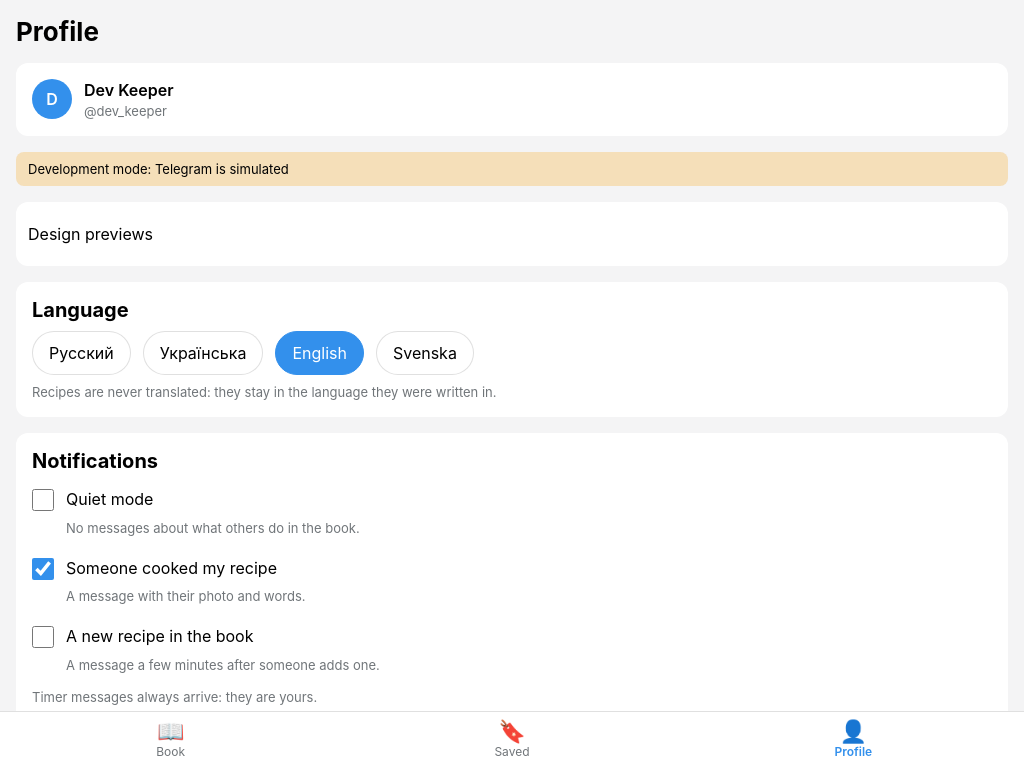
Test: notification settings in the Profile › quiet mode turns off the messages about other people; the two switches show it
Step 1. Click the checkbox labelled "Quiet mode" → (43, 500), box top-left (32, 489), bottom-right (54, 511)
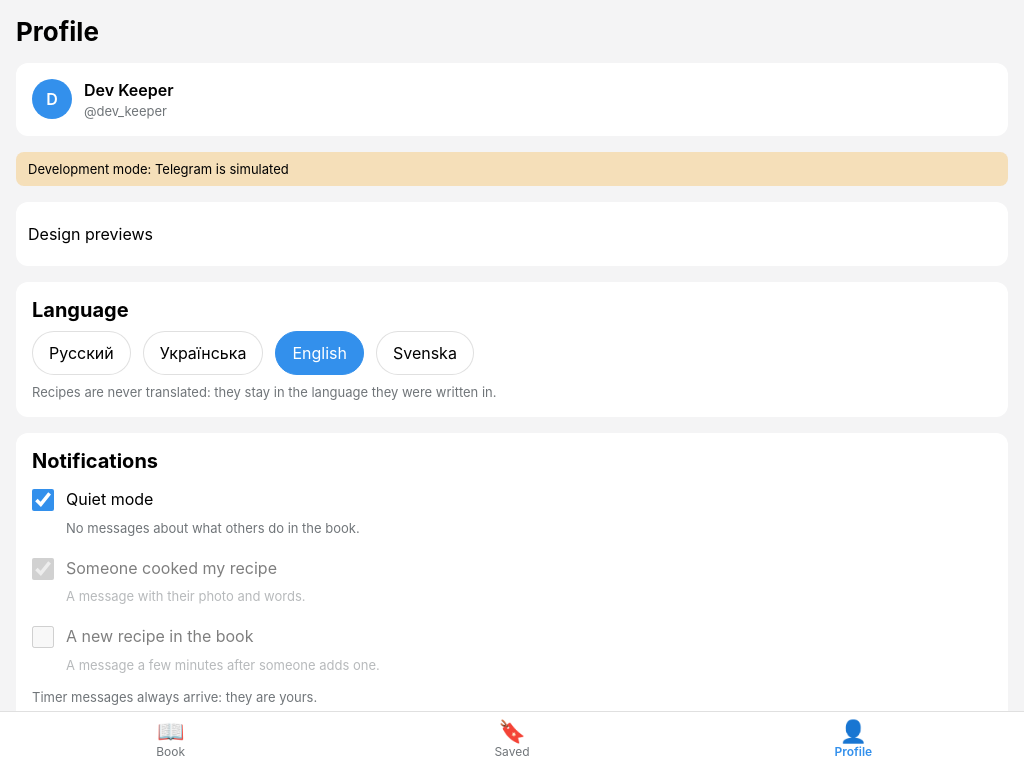
Check: the checkbox labelled "Someone cooked my recipe" is disabled, box top-left (32, 558), bottom-right (54, 580)
Check: the checkbox labelled "A new recipe in the book" is disabled, box top-left (32, 626), bottom-right (54, 648)
